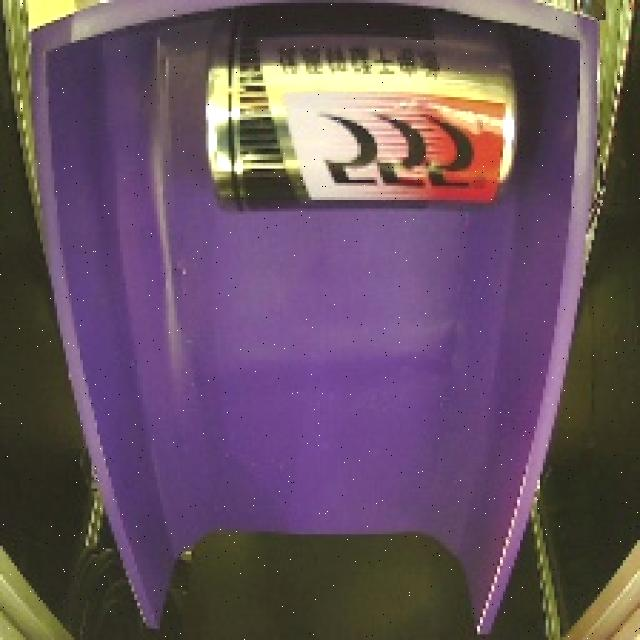battery: (185, 4, 530, 229)
